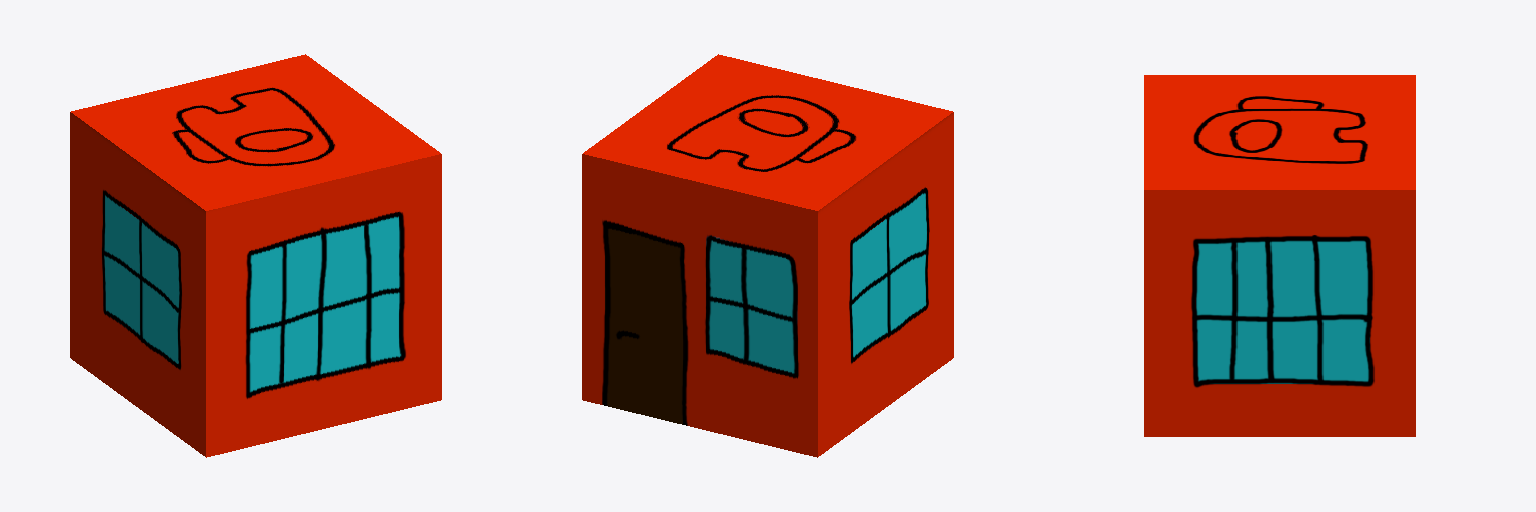
3 renders of one model, left to right at view 1: azimuth 30°, elevation 25°; view 2: azimuth 150°, elevation 25°; view 3: azimuth 270°, elevation 25°, orthographic.
Visible parts, largest first — view 1: Cube; view 2: Cube; view 3: Cube.
Part boxes in pixels (left/top/right/bottom): Cube: left=70, top=54, right=441, bottom=457; Cube: left=582, top=54, right=953, bottom=457; Cube: left=1144, top=75, right=1415, bottom=436.
Bounding box in the file's own units: 2 × 2 × 2.
Materials: 1 (1 with a texture image).